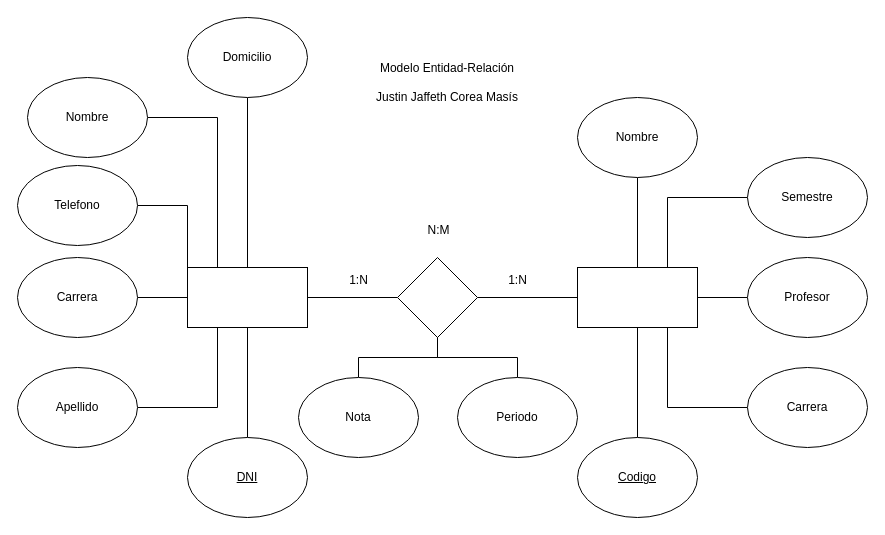
The diagram is 885 pixels wide and 535 high, and some of its shapes have lost their labels. The shapes that lost their labels are listed below. From the top down, each one's centre as x and y in pixels, then its label:
At point 247,297: "Alumnos".
At point 437,297: "Matricula".
At point 637,297: "Asignatura".
